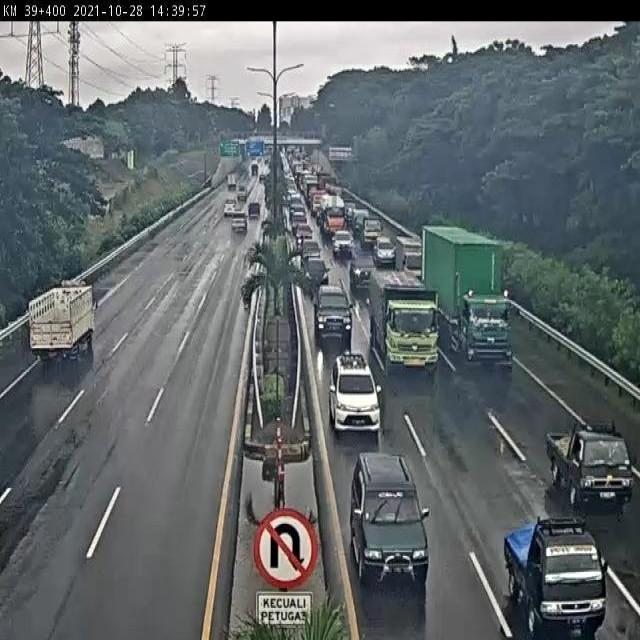big truck: (420, 227, 510, 361), (366, 269, 440, 372)
car: (503, 515, 609, 637), (349, 453, 430, 580), (545, 423, 635, 508), (329, 352, 378, 433), (314, 284, 353, 340), (354, 210, 384, 246), (305, 255, 329, 289), (351, 256, 375, 289), (373, 237, 395, 264), (333, 227, 352, 252)
mid truck: (28, 277, 97, 359)
small truck: (393, 235, 421, 272)
